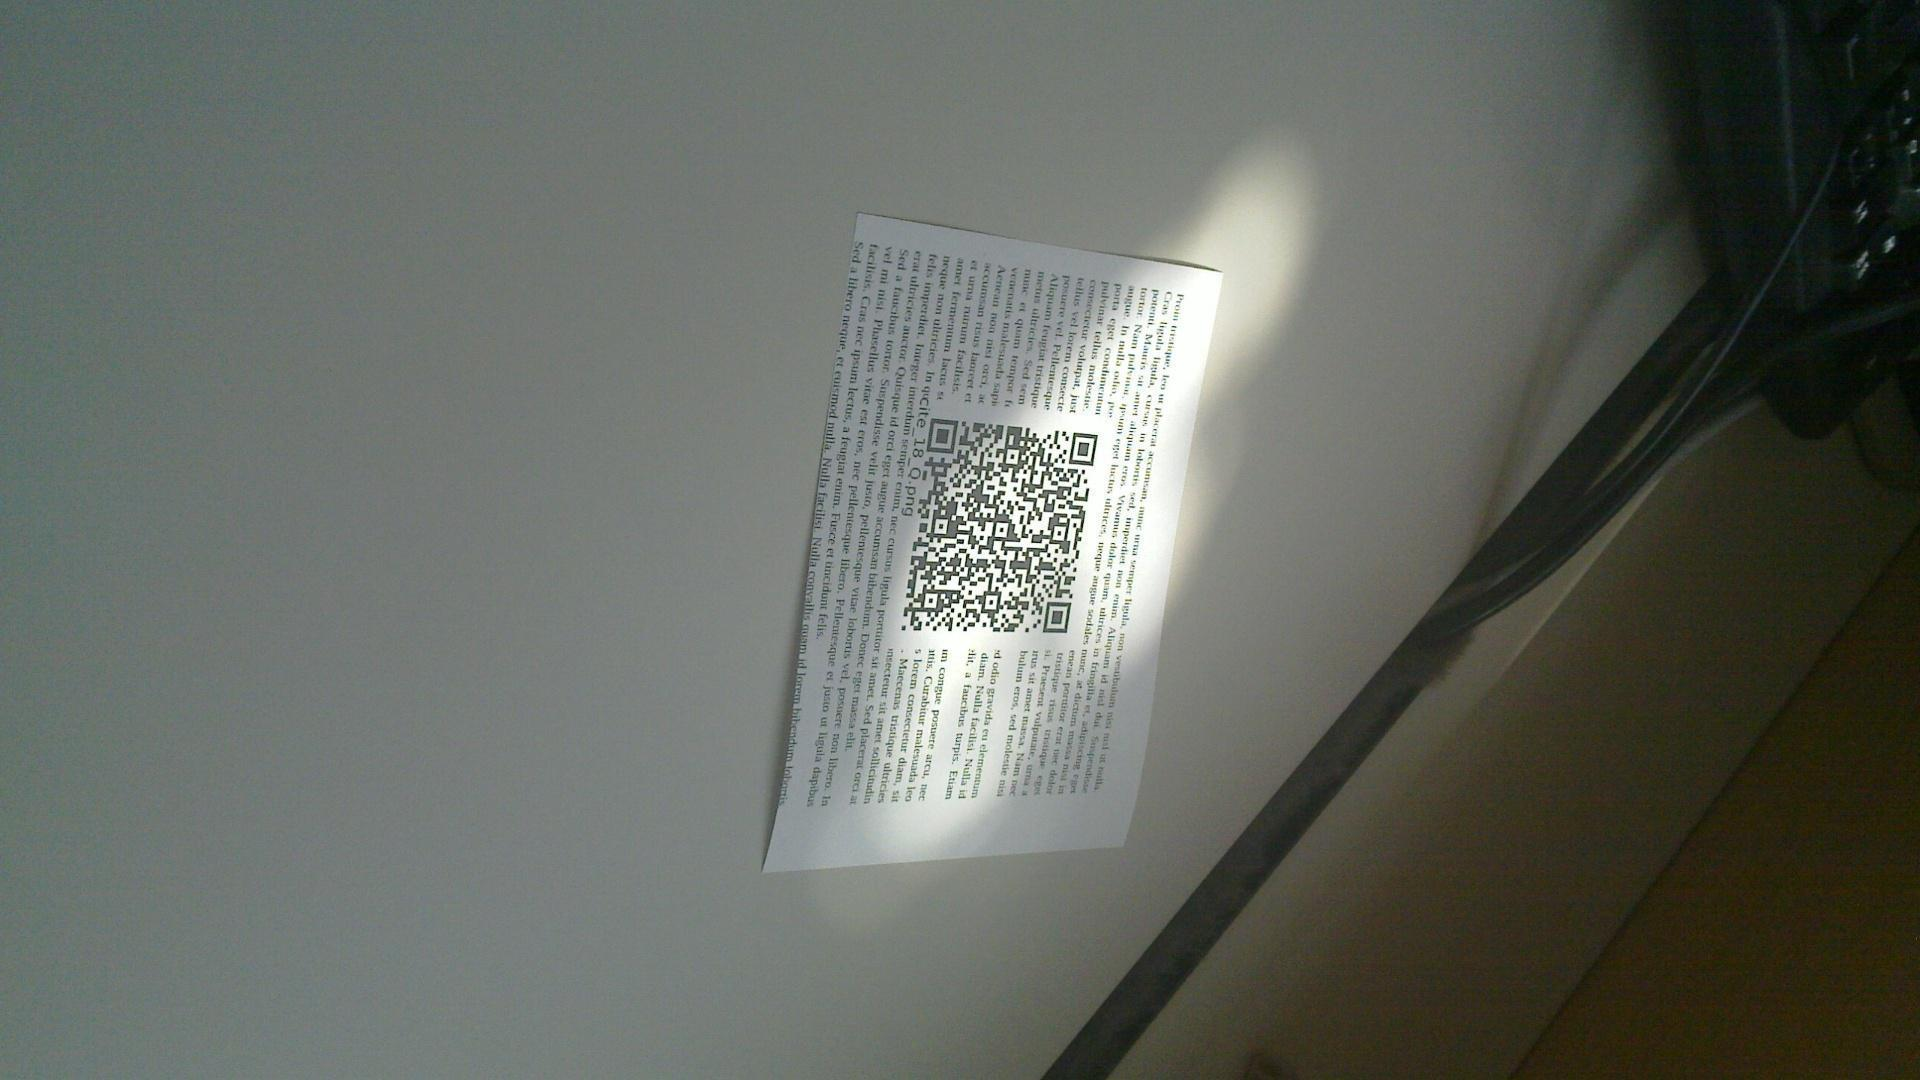qr_code: (901, 418, 1098, 634)
